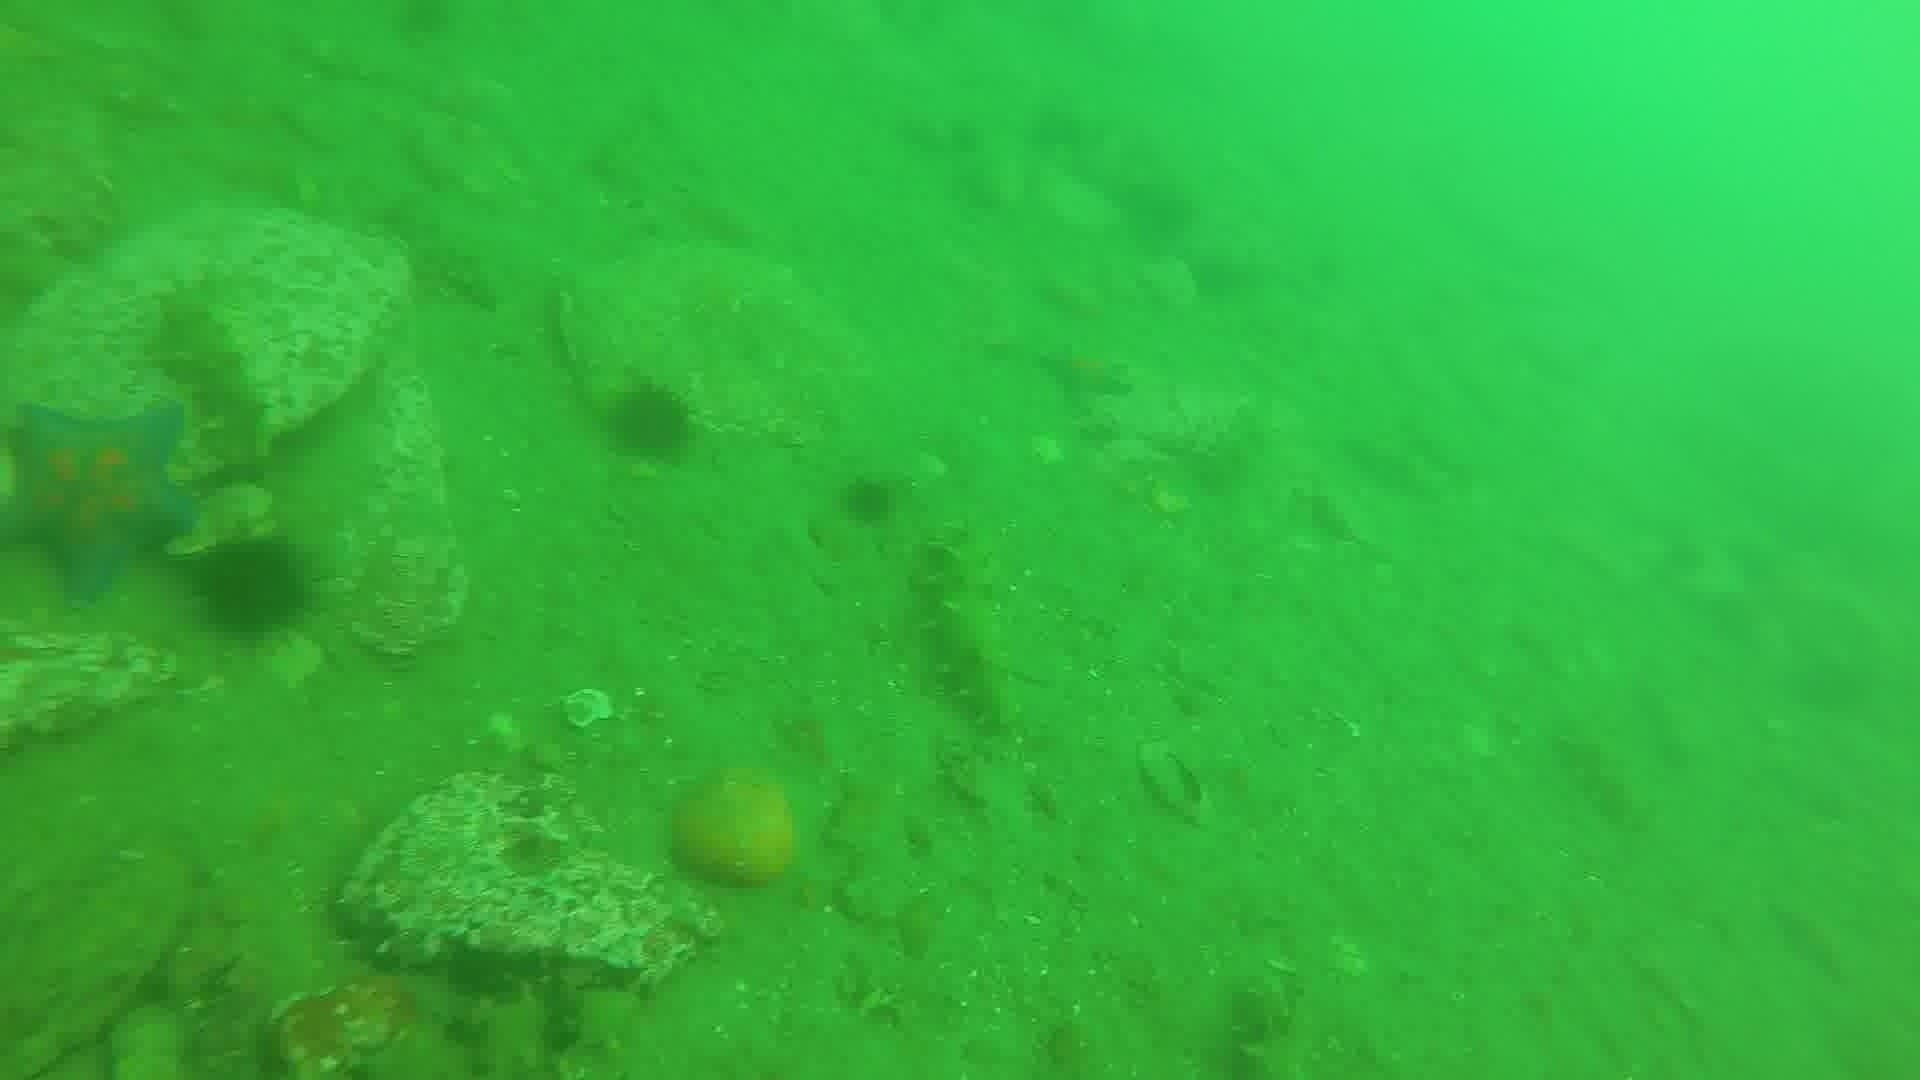echinus: (187, 531, 315, 644), (599, 378, 699, 467), (833, 471, 905, 531)
holothurian: (365, 971, 647, 1077), (145, 287, 276, 469), (913, 529, 1018, 735), (376, 195, 504, 314), (1548, 727, 1646, 831)
starfish: (3, 397, 200, 604), (1033, 339, 1135, 407)
